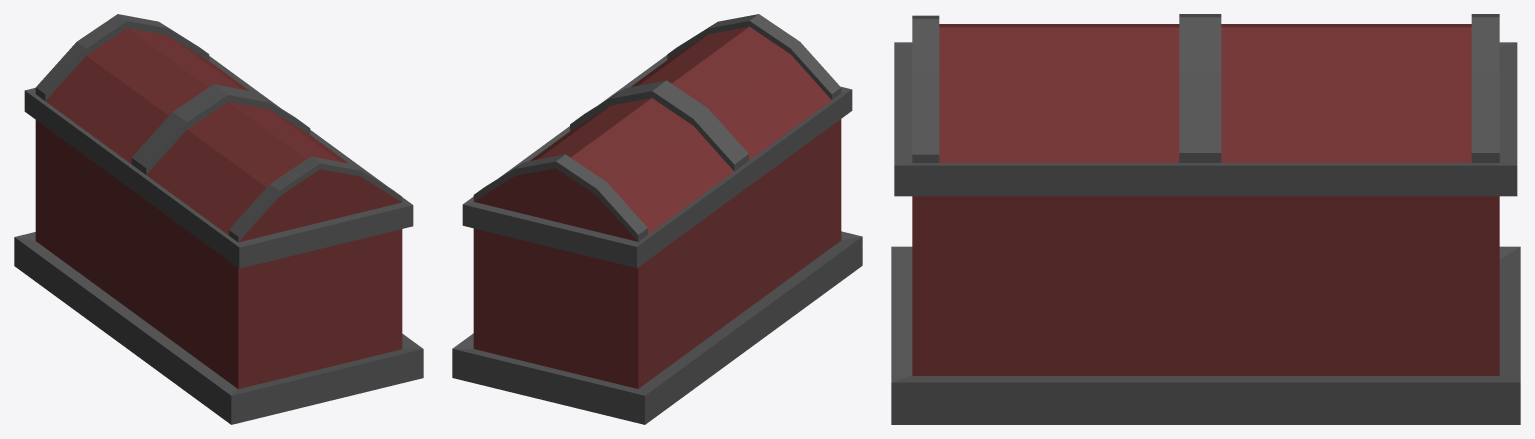
Rendered from Tresor.fbx.
3 renders of one model, left to right at view 1: azimuth 30°, elevation 25°; view 2: azimuth 150°, elevation 25°; view 3: azimuth 270°, elevation 25°, orthographic. The views are drawn at different scales.
Visible parts, largest first — view 1: Cube.006; view 2: Cube.006; view 3: Cube.006.
Part boxes in pixels (x1,y1,x2,y2): Cube.006: (14,14,423,424); Cube.006: (452,14,862,424); Cube.006: (891,14,1520,424).
Size of the model in its own units: 234 by 273 by 458.
